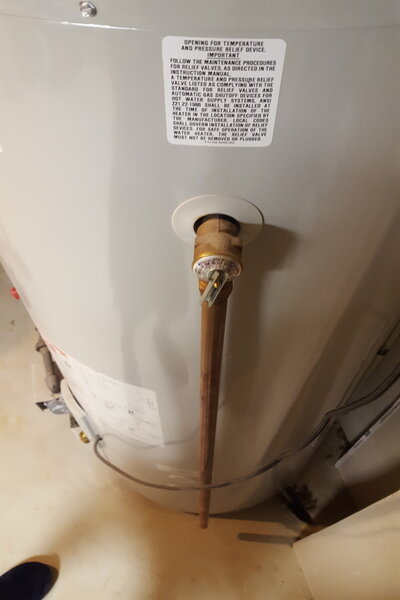valve: (194, 212, 244, 317)
